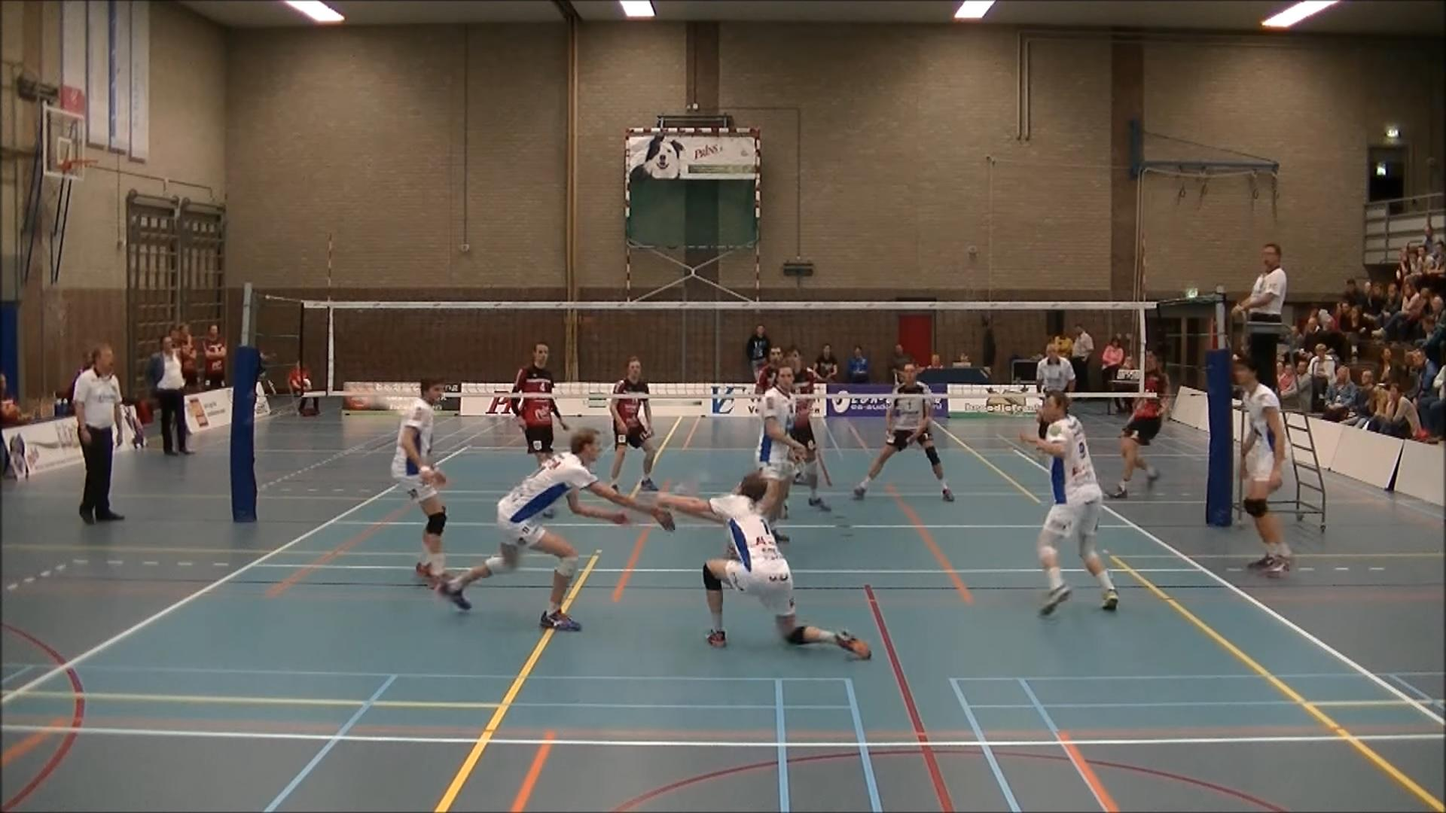Player: (1020, 391, 1118, 614), (853, 362, 953, 501), (1234, 355, 1291, 577), (392, 379, 447, 581), (1109, 352, 1168, 498), (756, 364, 806, 522), (787, 347, 830, 511), (510, 342, 567, 465), (609, 357, 657, 491), (755, 346, 784, 394)
Receive: (436, 419, 679, 637), (654, 455, 865, 662)
